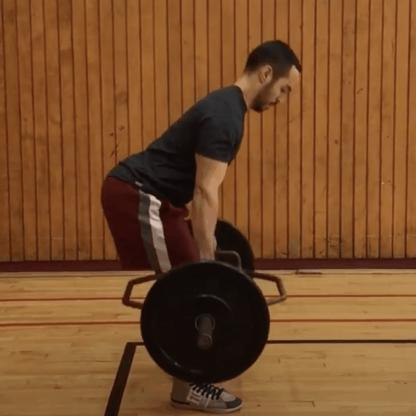Barbell: (140, 256, 272, 387)
